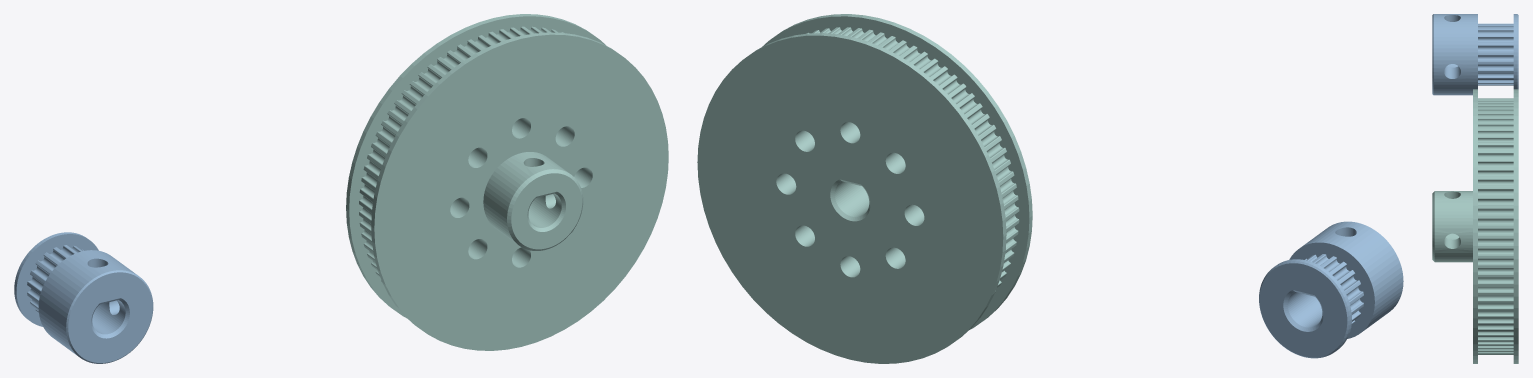
File: whiteboard-drive-pulleys.glb
3 views of the same model, side by side, from view 1: azimuth 30°, elevation 25°; view 2: azimuth 150°, elevation 25°; view 3: azimuth 270°, elevation 25° (orthographic). The views are drawn at different scales.
Visible parts, largest first — view 1: 80T GT2 Pulley, 20T GT2 Pulley; view 2: 80T GT2 Pulley, 20T GT2 Pulley; view 3: 80T GT2 Pulley, 20T GT2 Pulley.
Part boxes in pixels (x1,y1,x2,y2): 80T GT2 Pulley: [346, 14, 668, 350]; 20T GT2 Pulley: [14, 232, 153, 363]; 80T GT2 Pulley: [697, 14, 1032, 363]; 20T GT2 Pulley: [1259, 221, 1403, 358]; 80T GT2 Pulley: [1432, 89, 1518, 363]; 20T GT2 Pulley: [1432, 14, 1518, 95].
Size of the model in its own units: 115 by 54 by 17.
